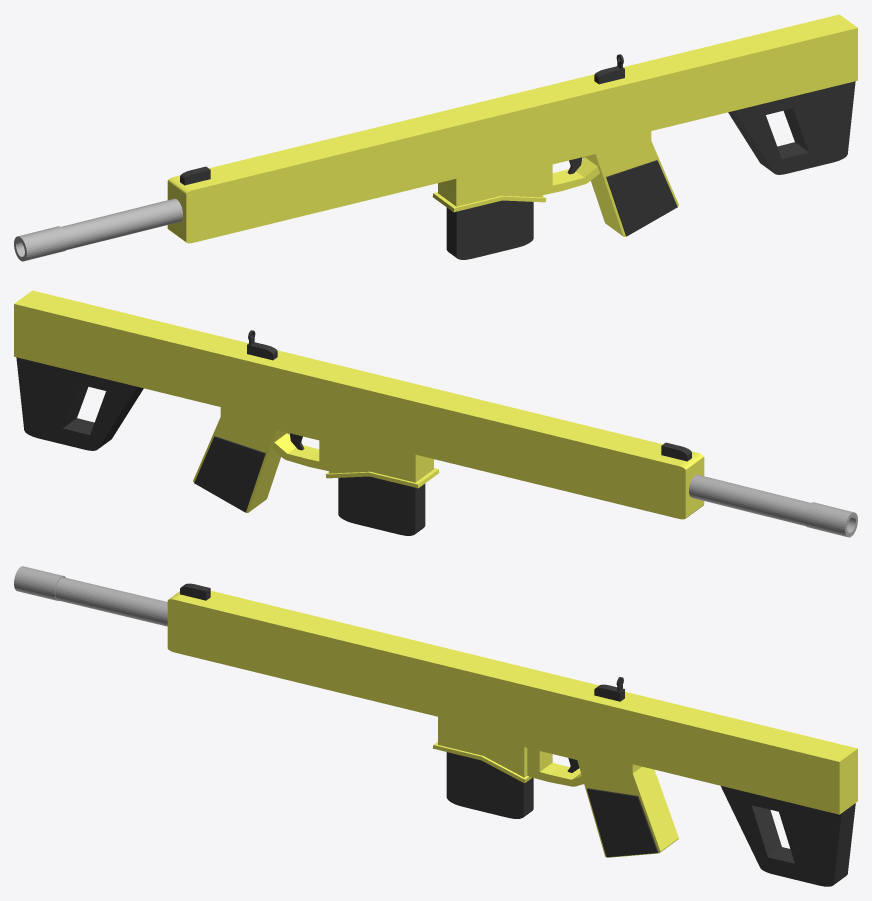
File: rifle.fbx
3 renders of one model, top to bottom at view 1: azimuth 30°, elevation 25°; view 2: azimuth 150°, elevation 25°; view 3: azimuth 330°, elevation 25°, orthographic.
Parts seen in each view (by area): view 1: Body, Magazine; view 2: Body, Magazine; view 3: Body, Magazine.
Part boxes in pixels (x1,y1,x2,y2): Body: (14,14,857,261); Magazine: (446,200,533,259); Body: (14,290,857,537); Magazine: (338,476,425,535); Body: (14,566,857,886); Magazine: (446,752,533,818).
Bounding box in the file's own units: 0.1995 × 0.9151 × 4.55.
